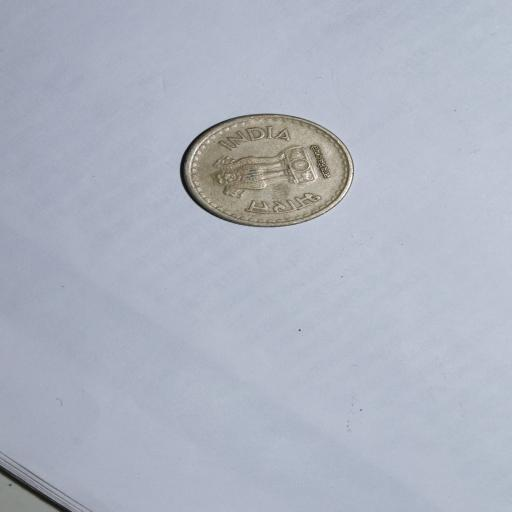rupee5: (177, 112, 356, 229)
